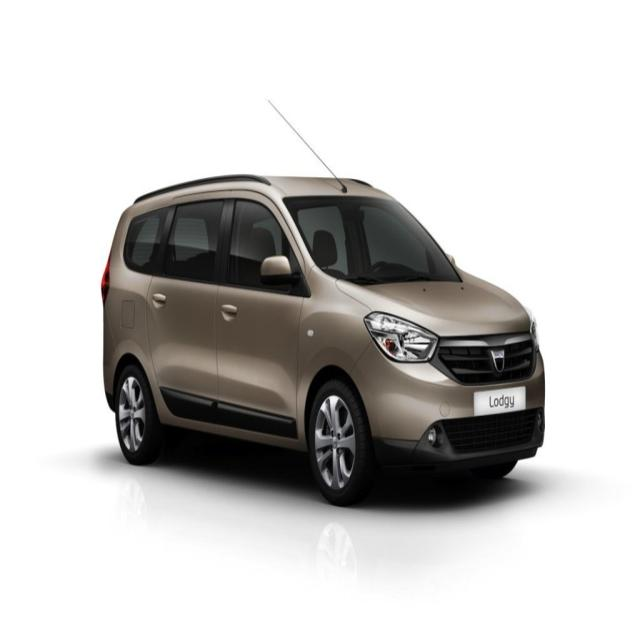car: (96, 143, 554, 514)
